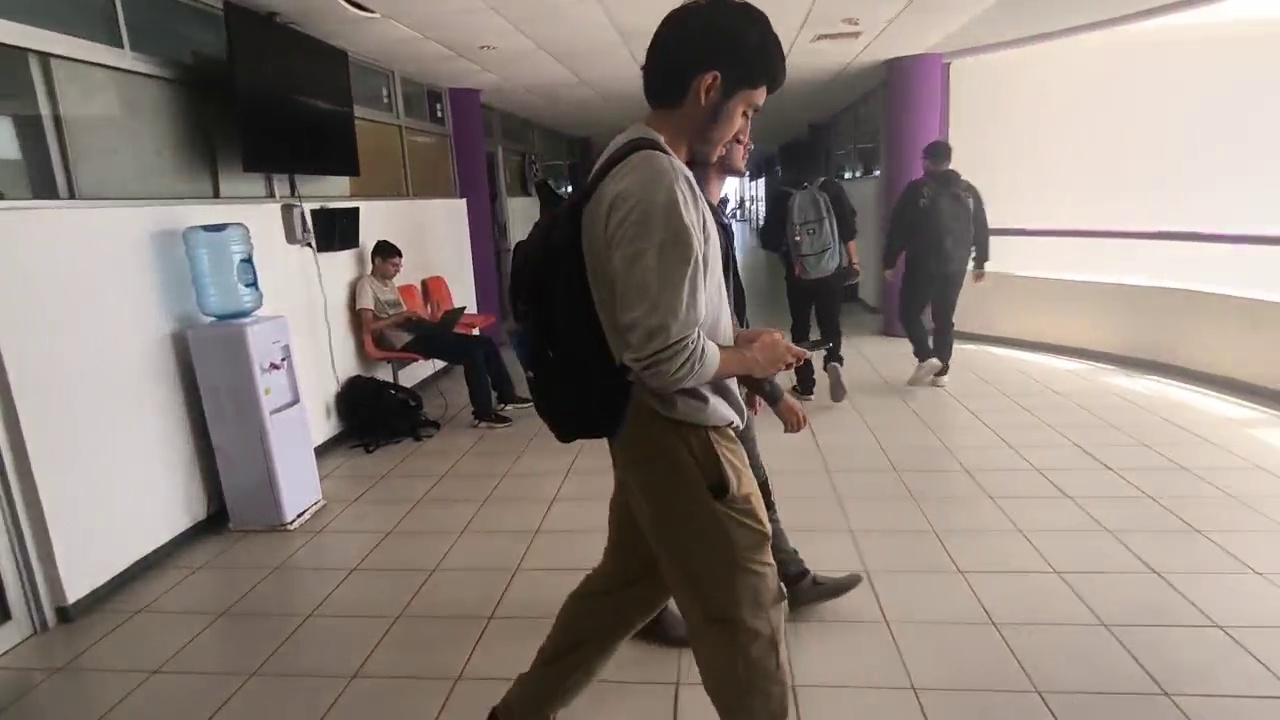mixto2: (783, 329, 848, 358)
